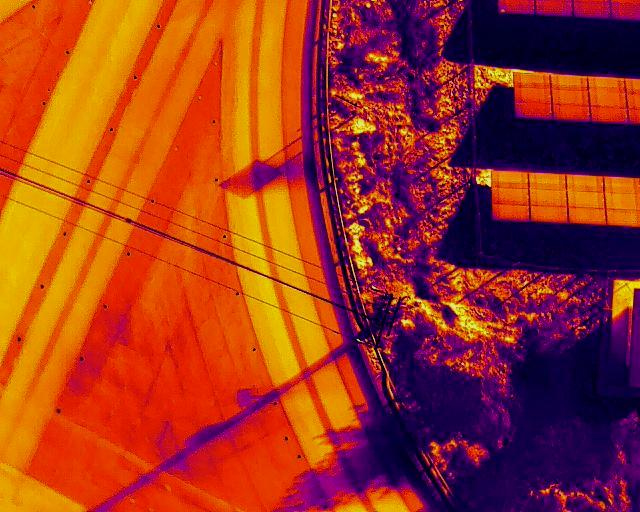Cell: (498, 0, 535, 14)
No-Anomaly: (491, 205, 528, 223), (551, 74, 589, 91), (574, 0, 609, 18), (492, 172, 529, 189), (513, 71, 550, 88), (529, 207, 567, 223), (568, 208, 606, 224), (529, 190, 566, 206), (567, 176, 604, 192), (591, 107, 630, 122), (567, 191, 603, 207), (589, 76, 627, 91), (551, 91, 589, 106), (589, 92, 627, 107), (491, 189, 529, 204), (552, 106, 590, 121), (515, 88, 550, 104), (536, 0, 573, 15), (529, 174, 566, 189), (604, 177, 636, 194), (515, 104, 551, 119), (604, 194, 637, 210), (605, 210, 638, 226), (611, 0, 640, 18)
